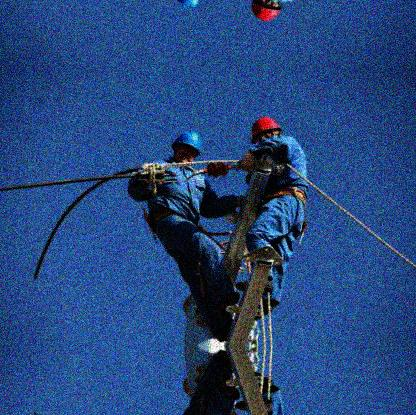helmet: (168, 130, 202, 166), (250, 118, 285, 146)
